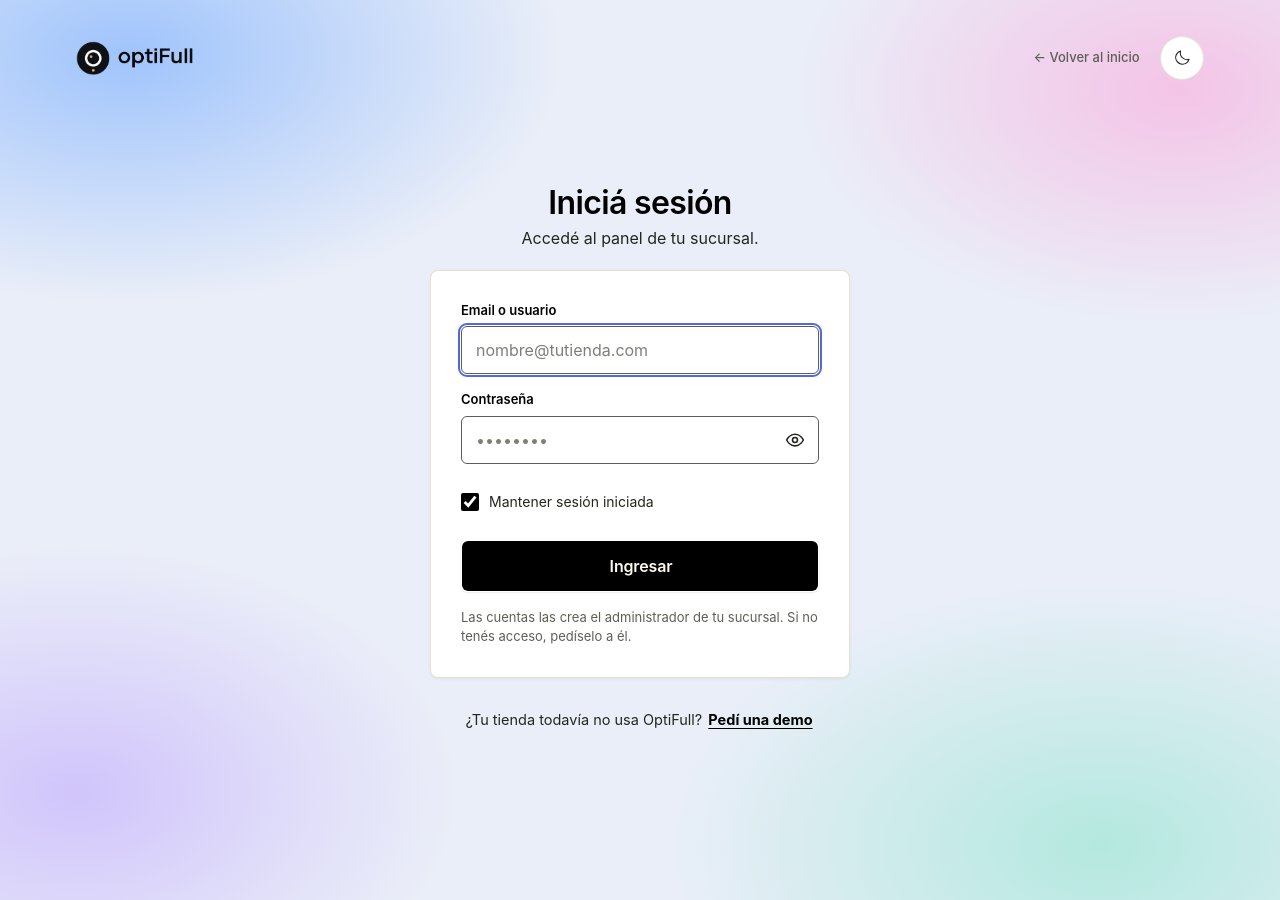
it: LoginPage › si falta solo la contraseña lleva el foco ahi, y el aviso se va al escribir
In the field labelled "Email o usuario": [640, 350] box [461,326,819,374], type "ana"
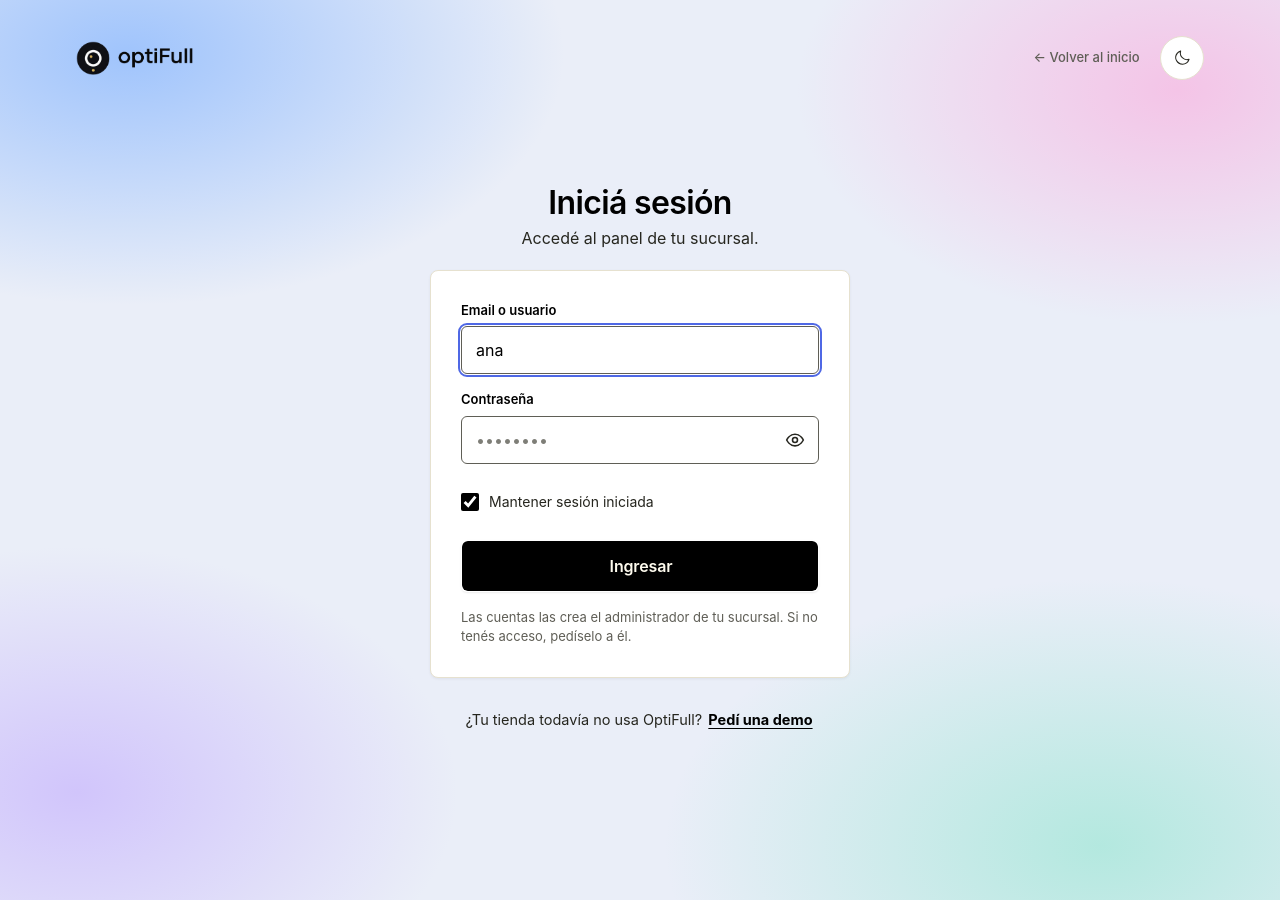
Click the button "Ingresar": [640, 566] box [461,540,819,592]
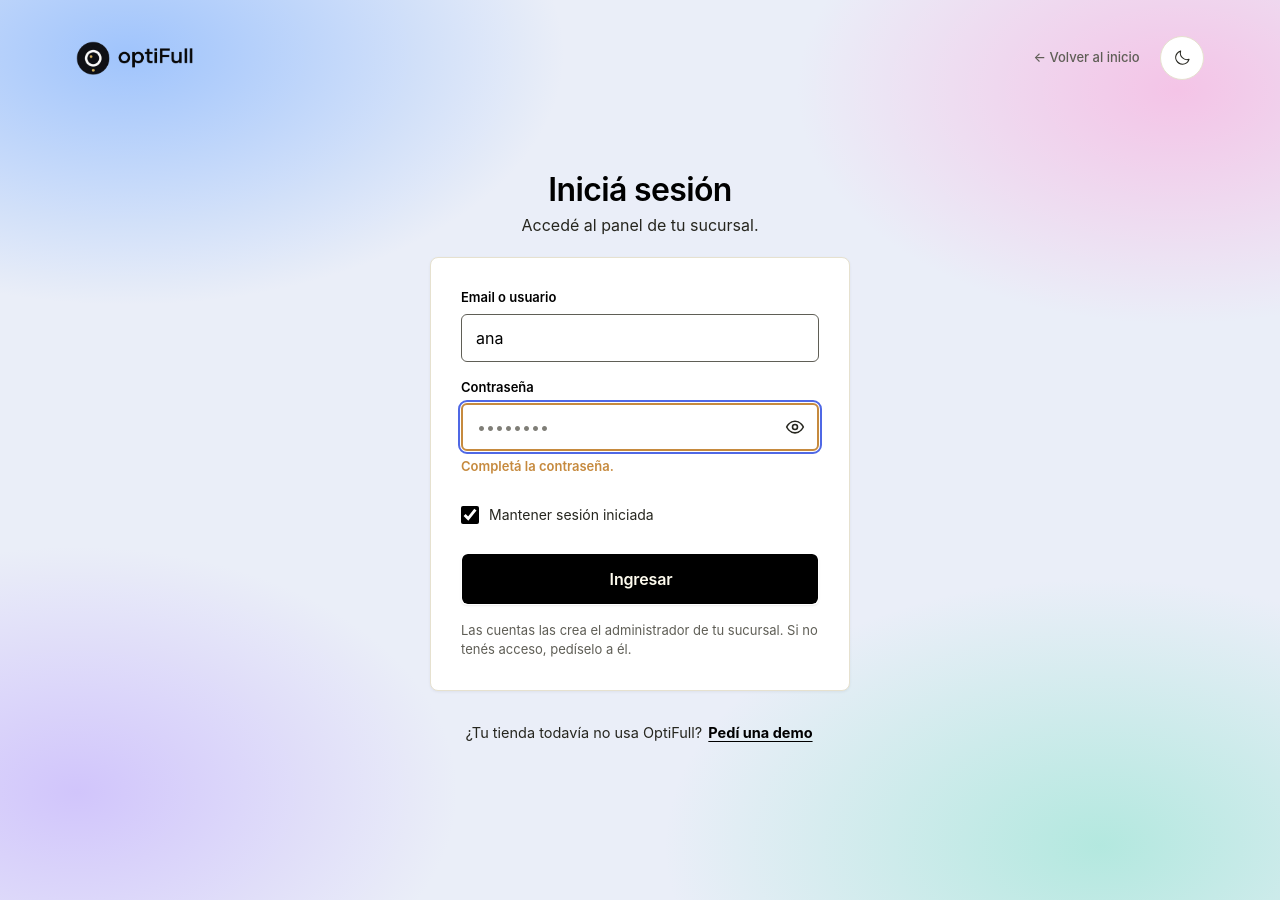
Result: the message reads "Completá la contraseña." at [461,458,614,474]
In the password field labelled "Contraseña": [640, 427] box [461,403,819,451], type "x"
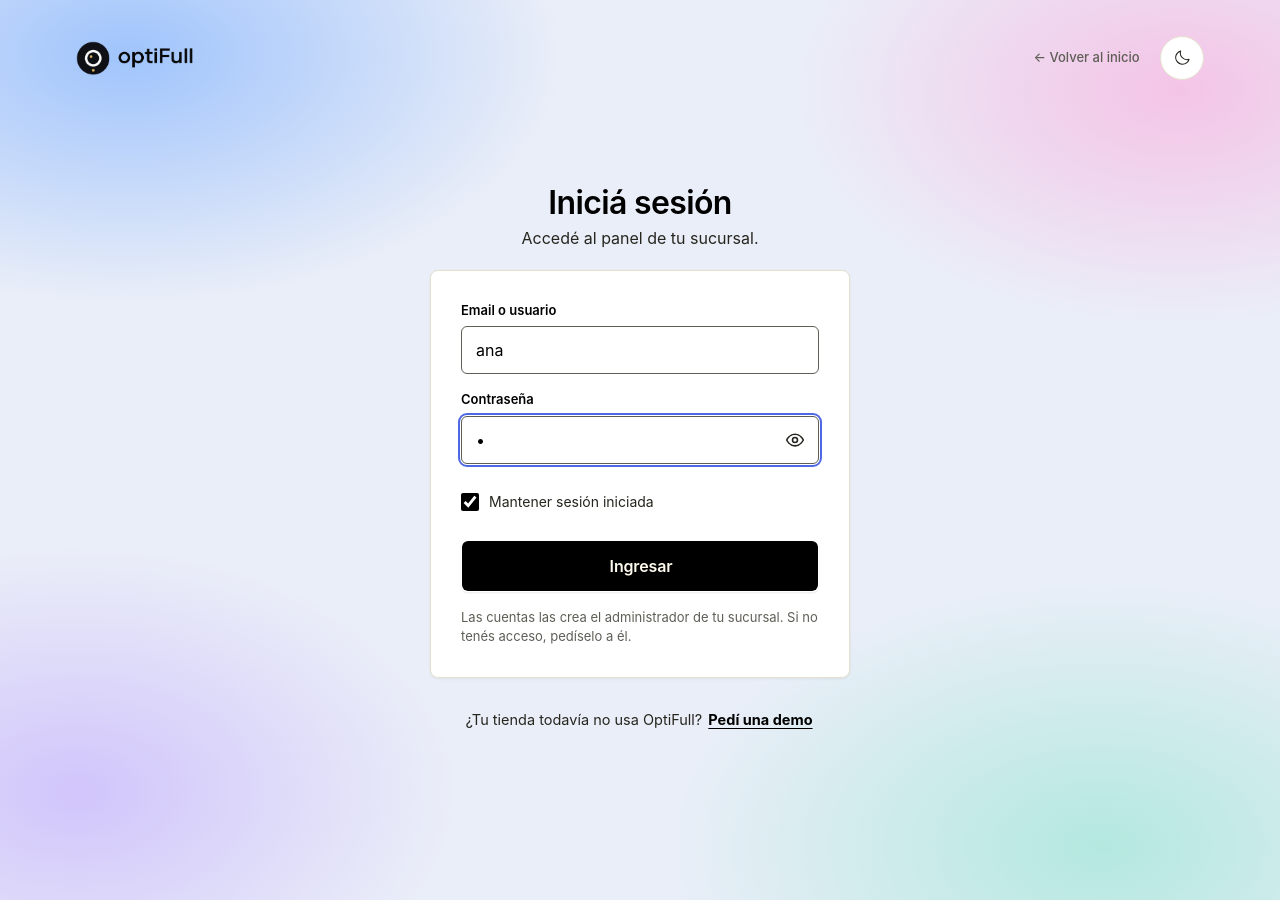
Result: the message "Completá la contraseña." is gone
